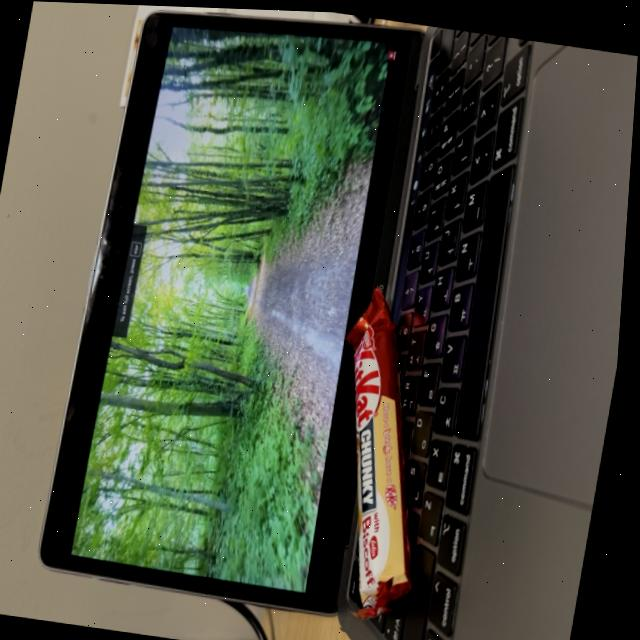chocolate: (304, 278, 464, 627)
